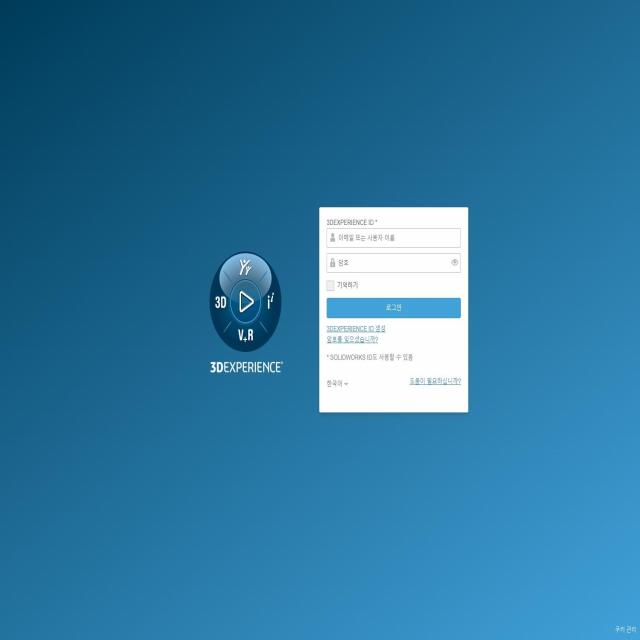button: (327, 298, 460, 318)
checkbox: (326, 278, 359, 292)
input: (327, 253, 460, 273), (327, 228, 460, 247)
select: (326, 377, 349, 391)
